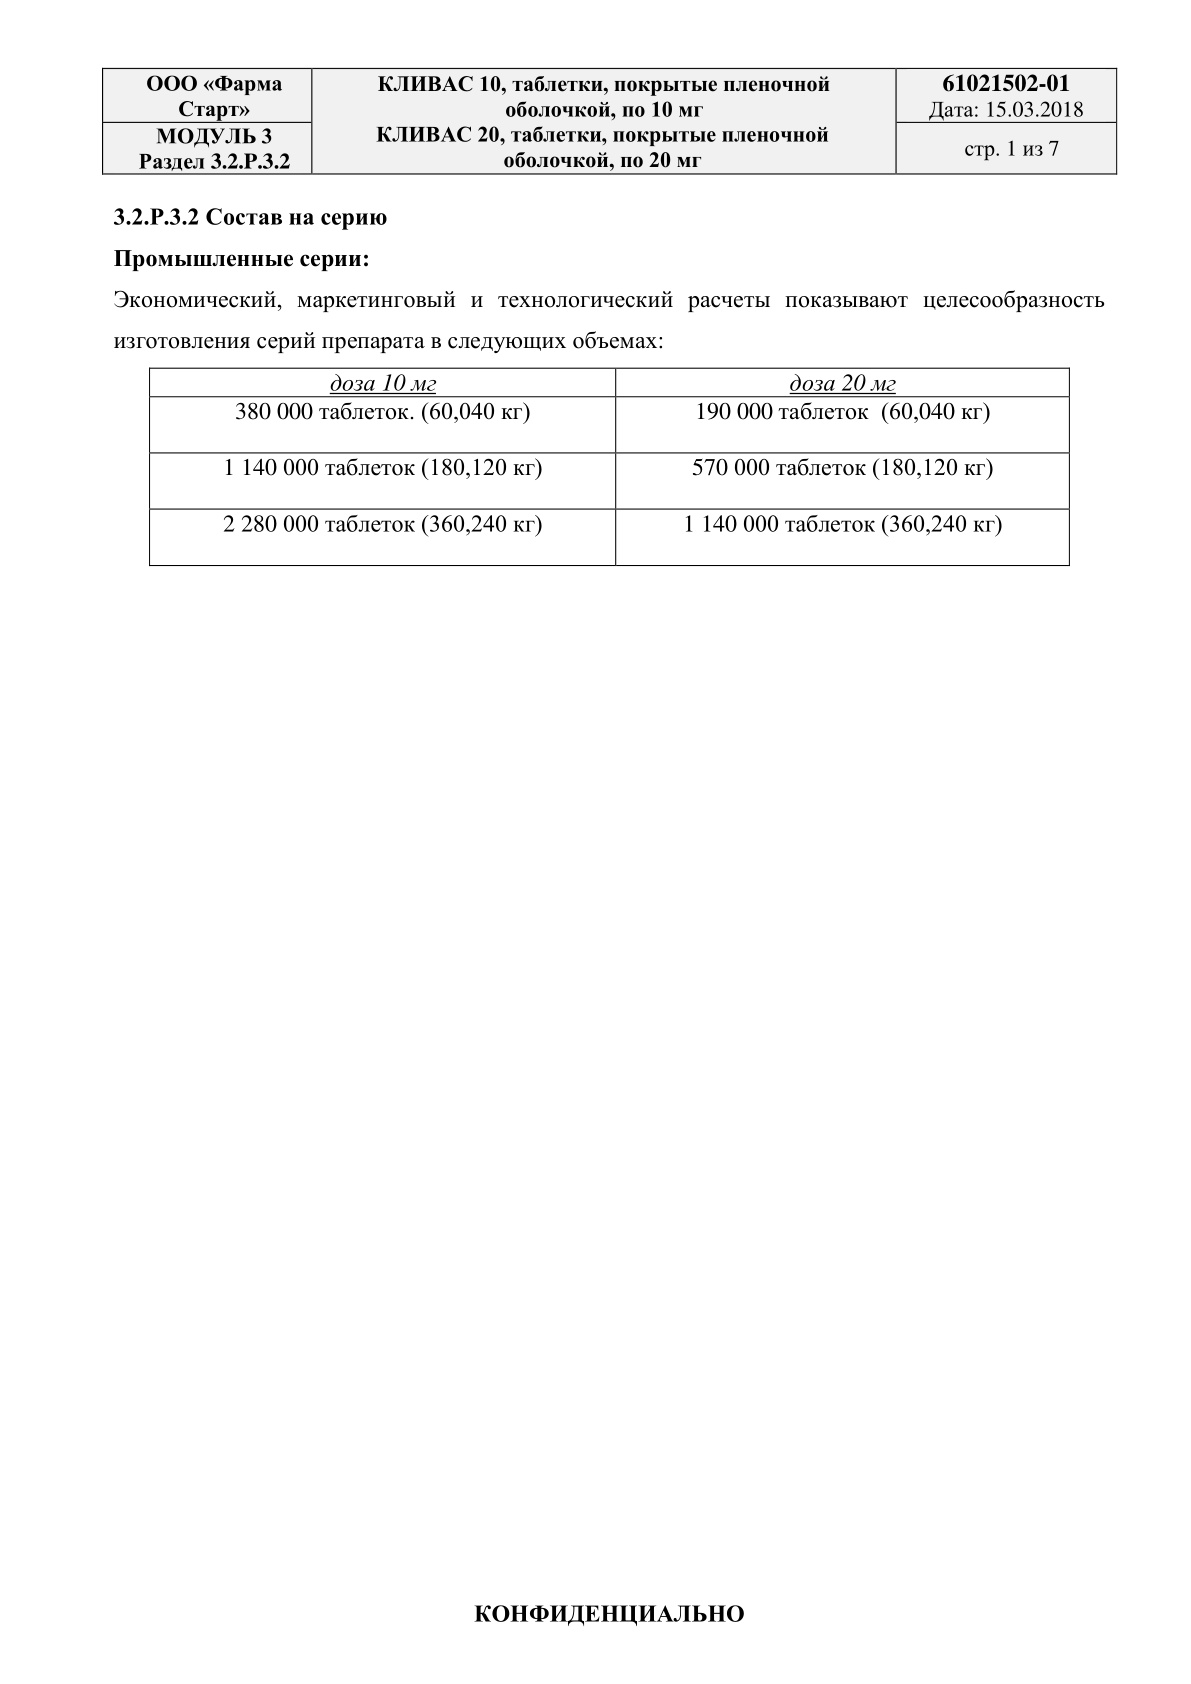full_lined: (148, 367, 1071, 566)
merged_cells: (101, 67, 1118, 174)
